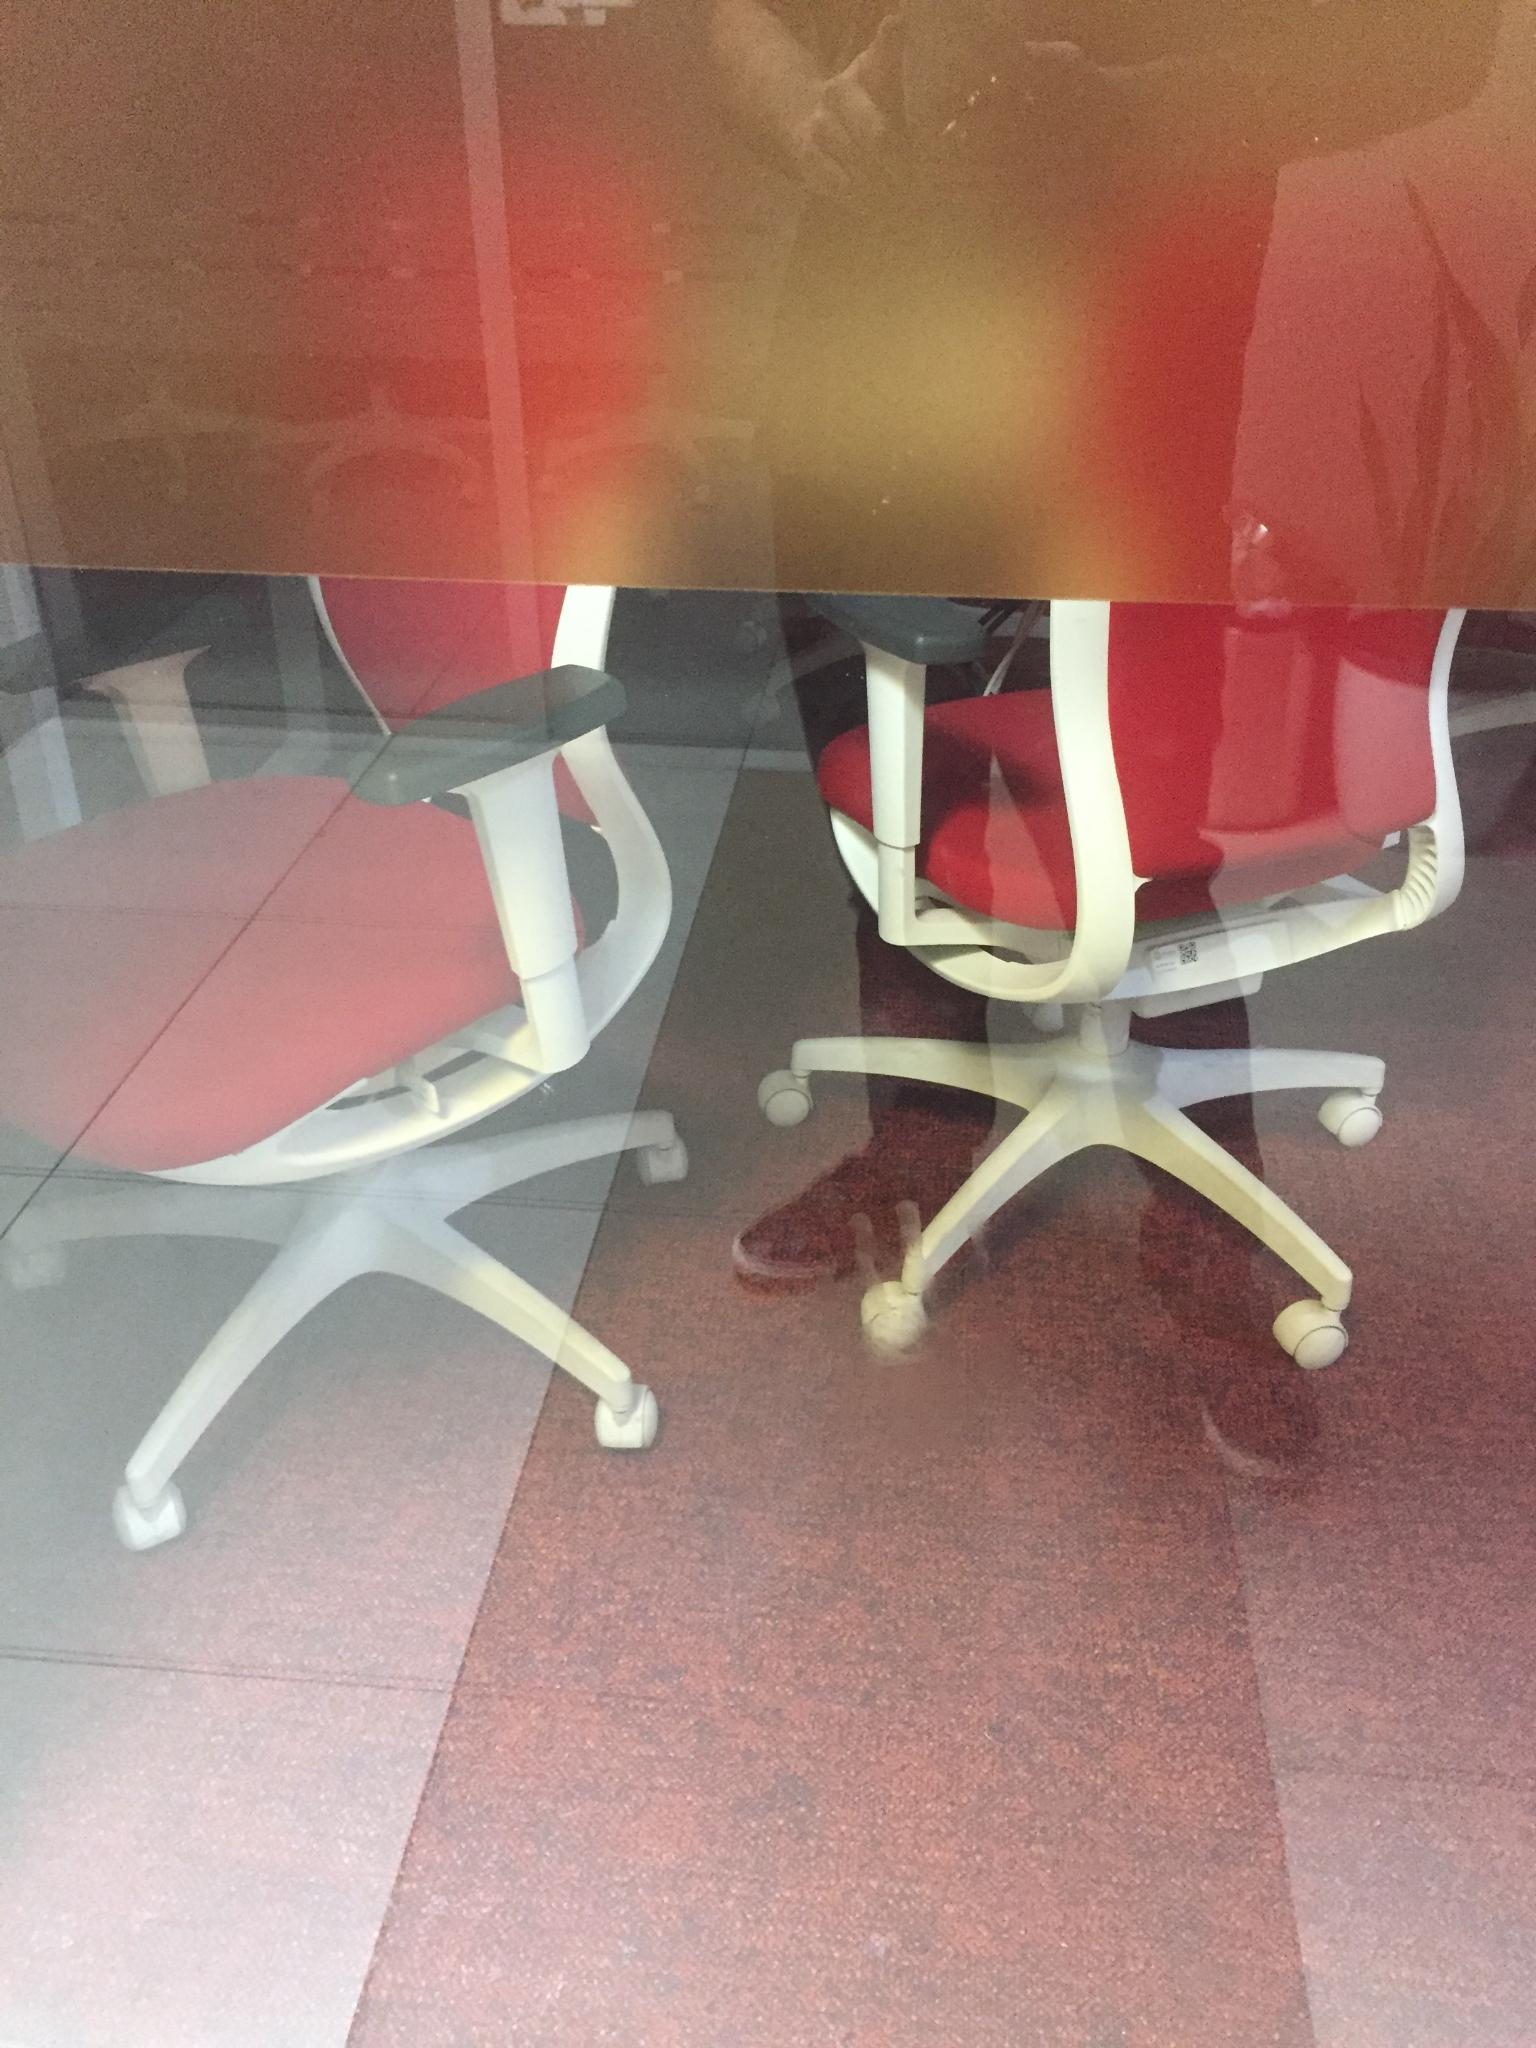chair: (741, 10, 1531, 1372), (2, 2, 687, 1553)
